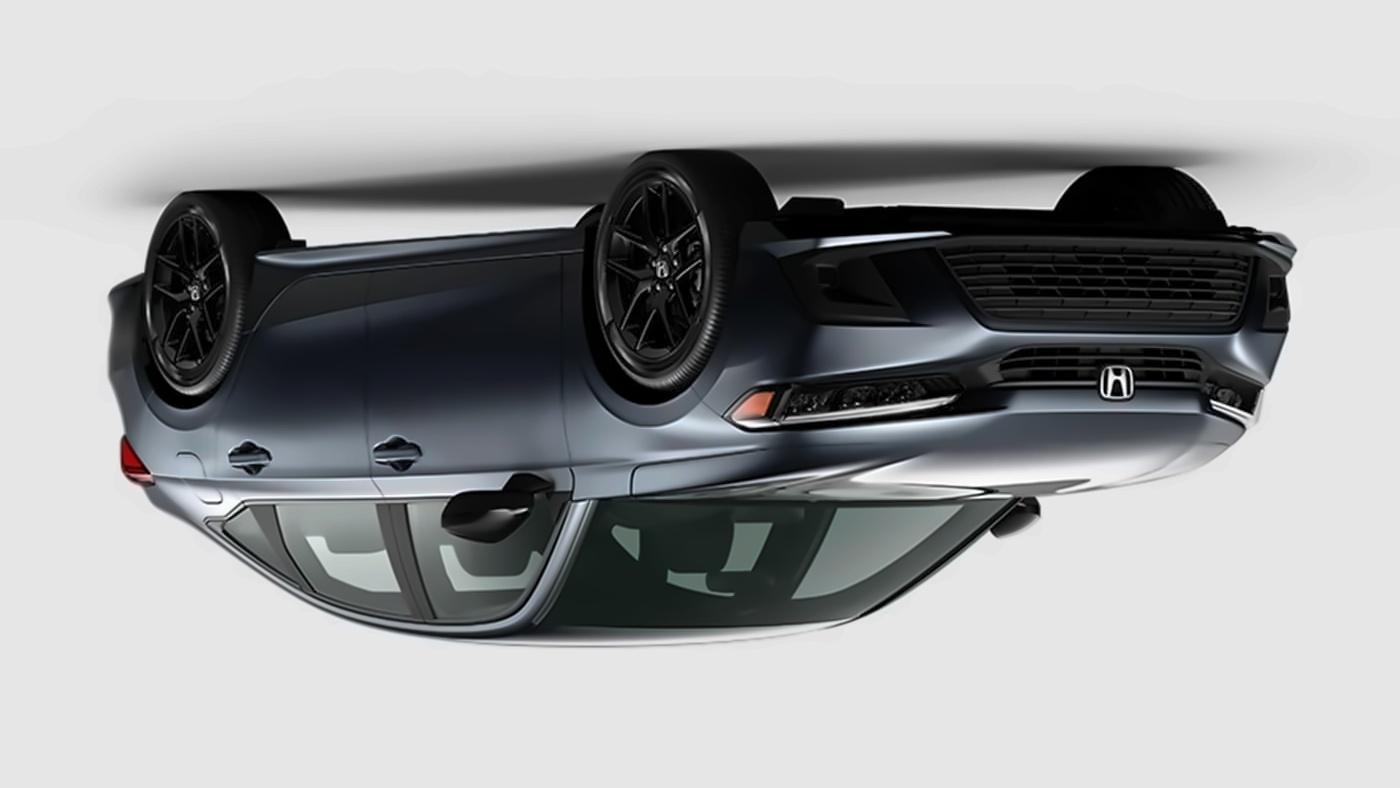Car hood: (624, 400, 1248, 509)
Fender - -F-L-: (560, 247, 725, 509)
Fender - -R-L-: (132, 259, 260, 509)
Front bumper: (688, 205, 1301, 409)
Headlight - -L-: (712, 365, 972, 435)
Headlight - -R-: (1186, 366, 1269, 436)
Passenger-s door - -F-L-: (365, 247, 560, 634)
Passenger-s door - -R-L-: (210, 247, 408, 634)
Rear bumper: (93, 265, 175, 427)
Rear light - -L-: (103, 427, 169, 497)
Side bumper - -L-: (233, 220, 592, 341)
Side mirror - -L-: (430, 464, 561, 559)
Side mirror - -R-: (972, 482, 1048, 547)
